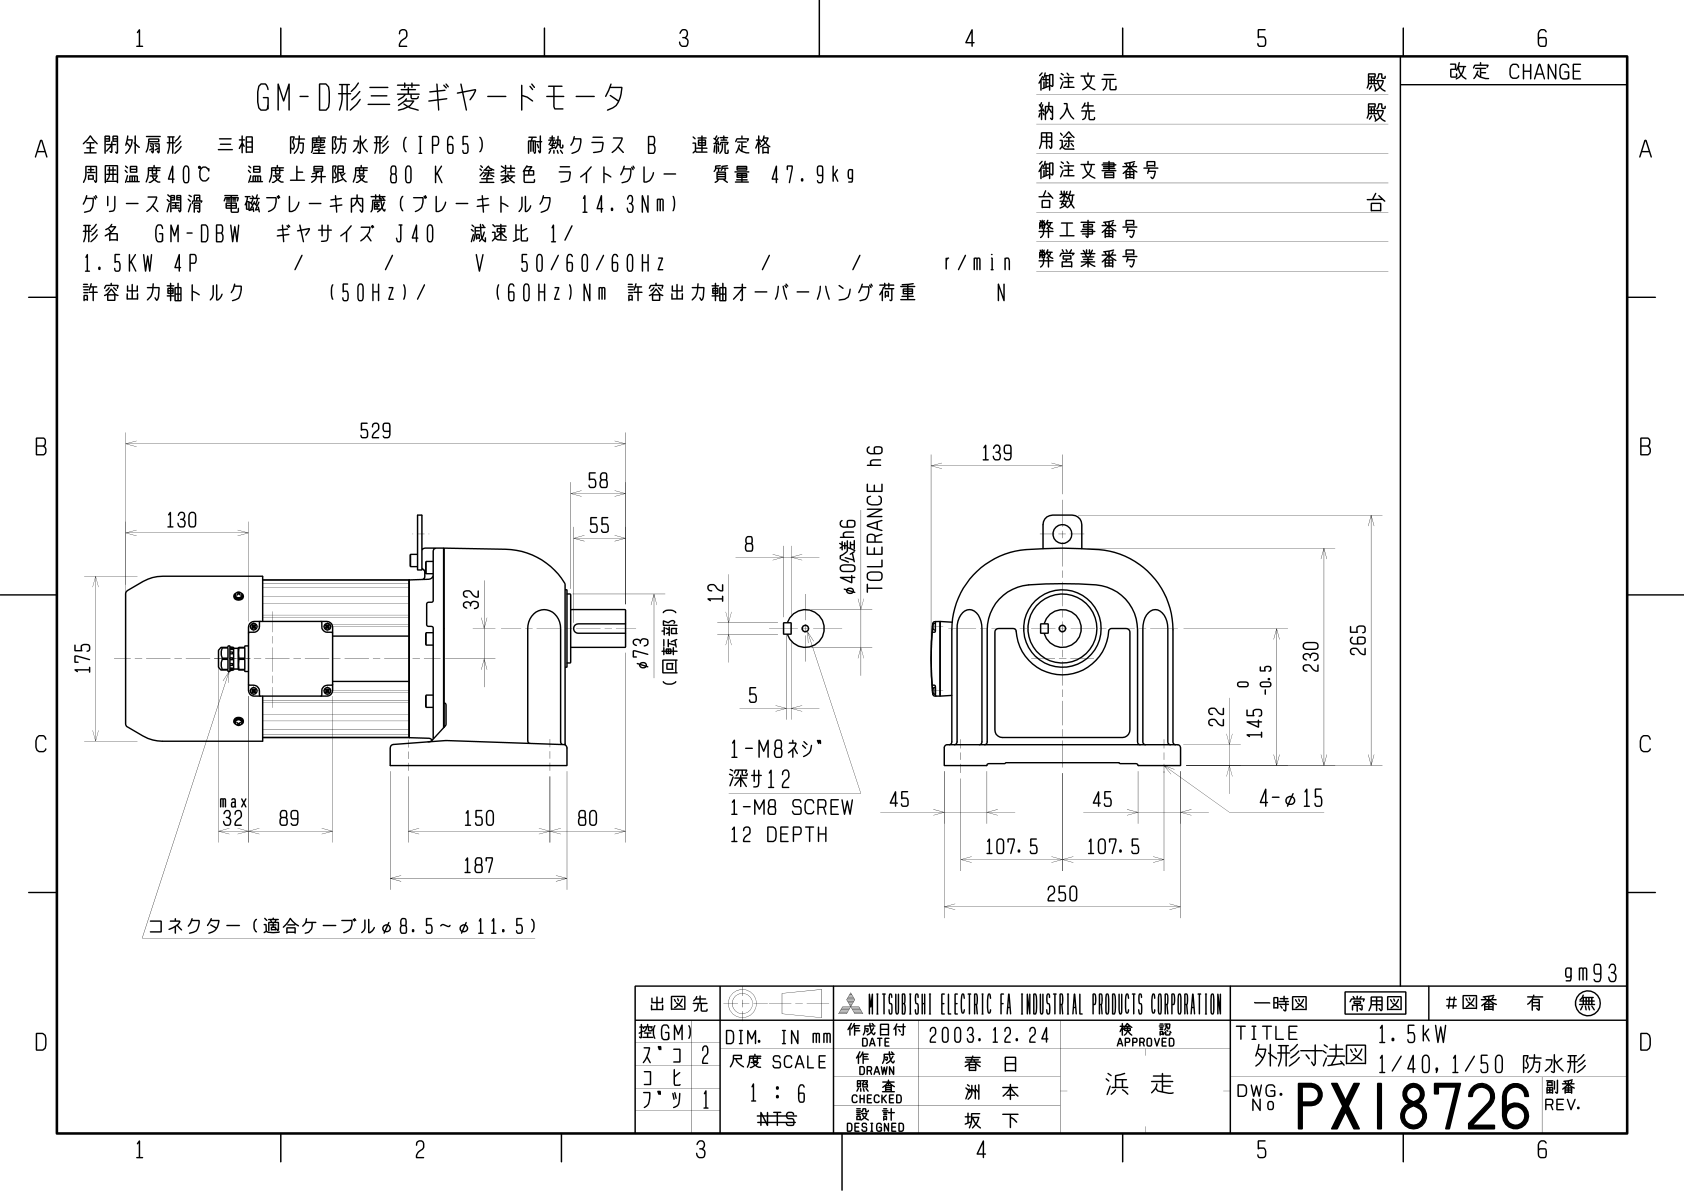GM_D_IP65_三相_脚: (61, 322, 1386, 951)
